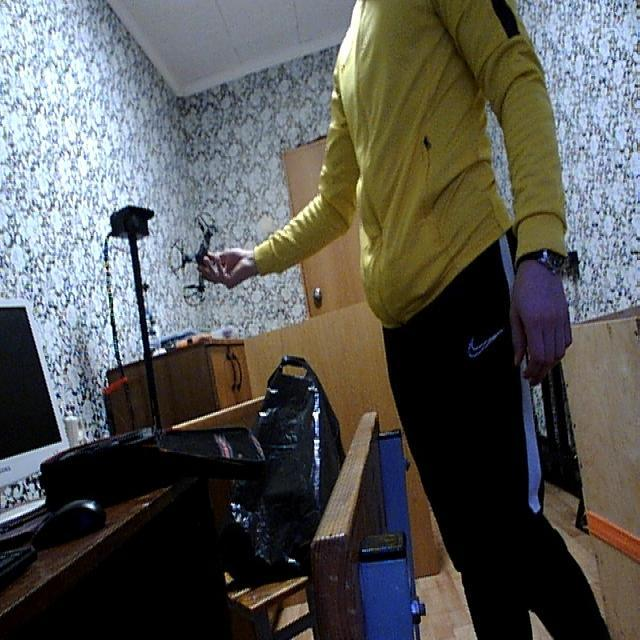drone: (162, 210, 245, 312)
